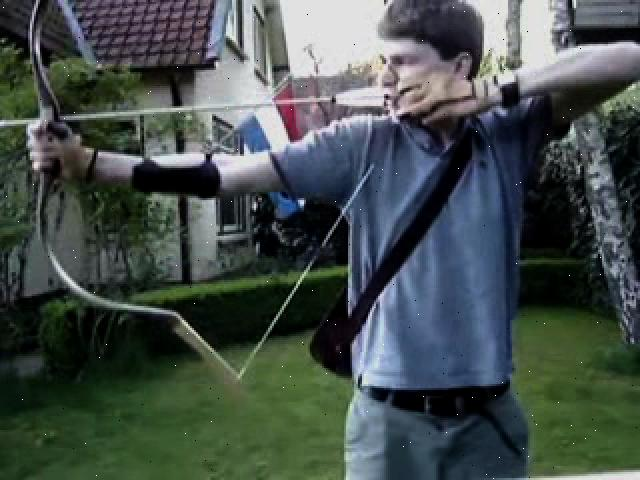P: (21, 4, 556, 480)
